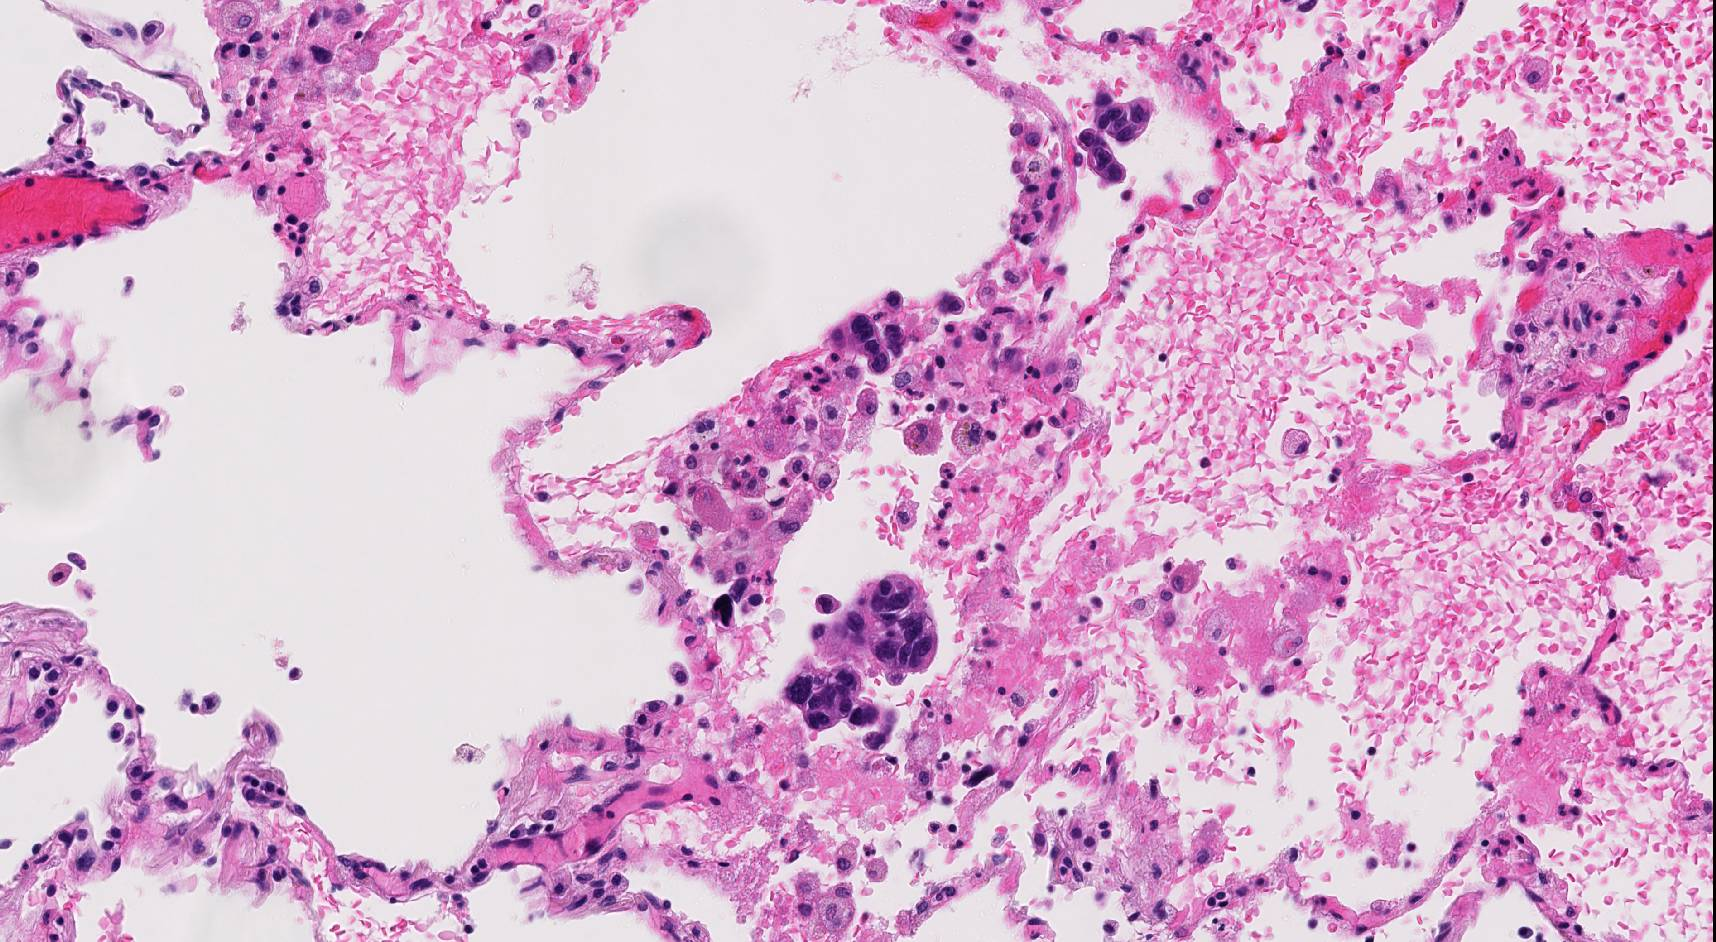stas: (809, 572, 939, 687), (783, 665, 896, 751), (823, 282, 909, 376), (1071, 87, 1152, 185)
